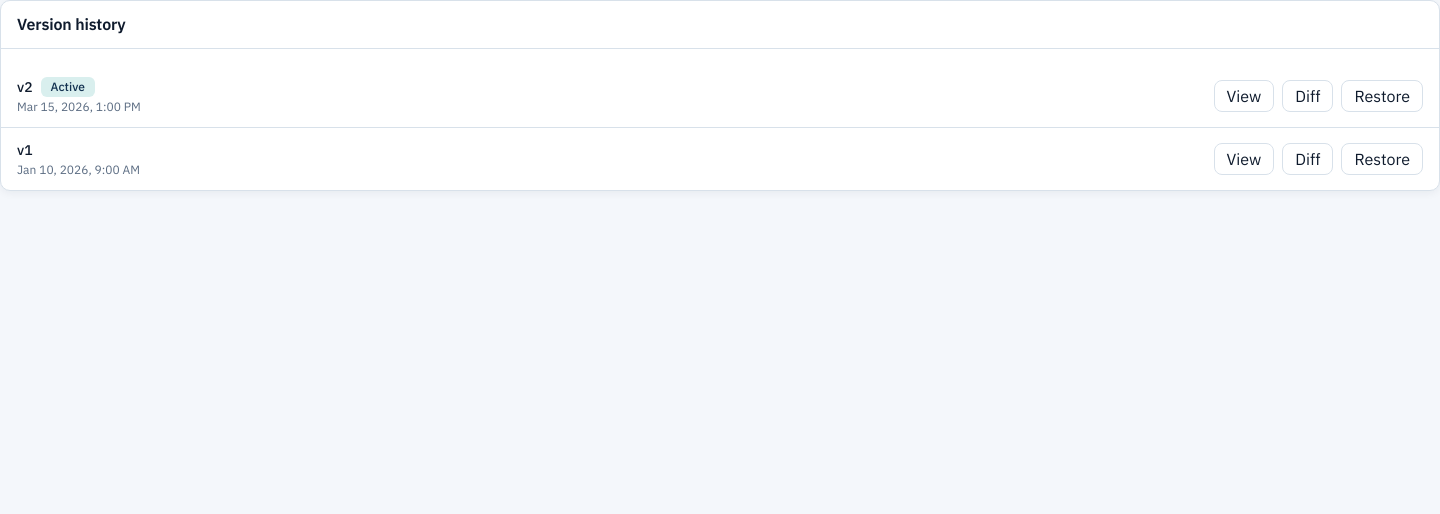
VersionHistory › shows diff panel when Diff is clicked for two different versions
# Click diff on v2 (first in sorted order — newest first)
Click the button "Diff" in the row of "Active" at (1308,96), box [1282,80,1333,112]
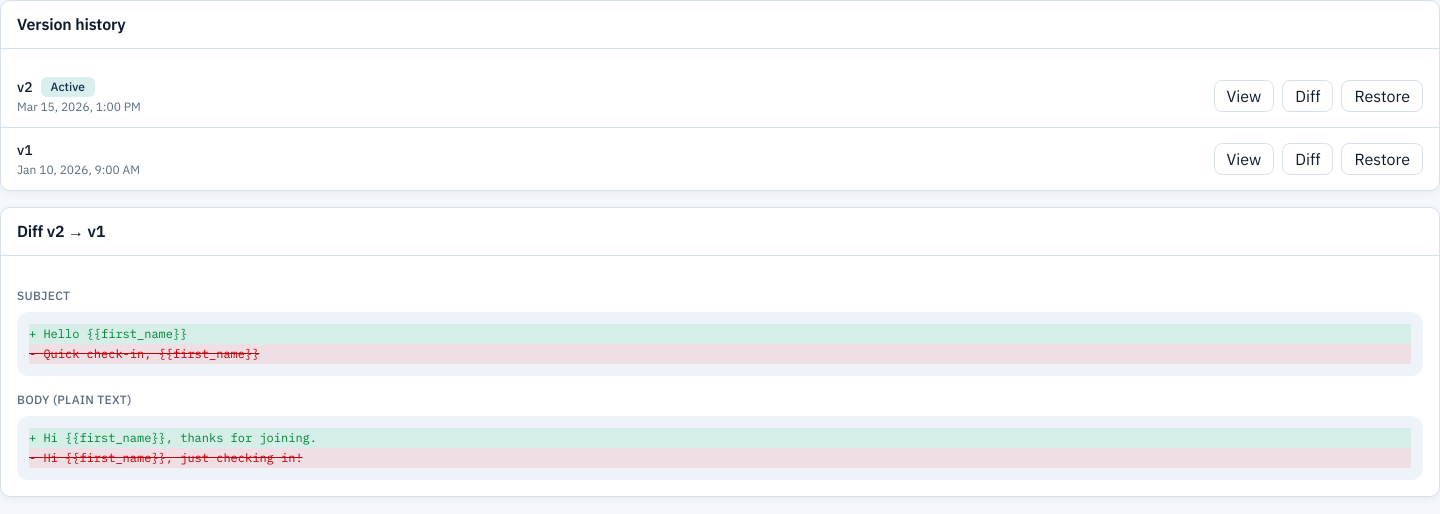
expect the element named "Version diff" is shown: met, box [0,207,1439,497]
